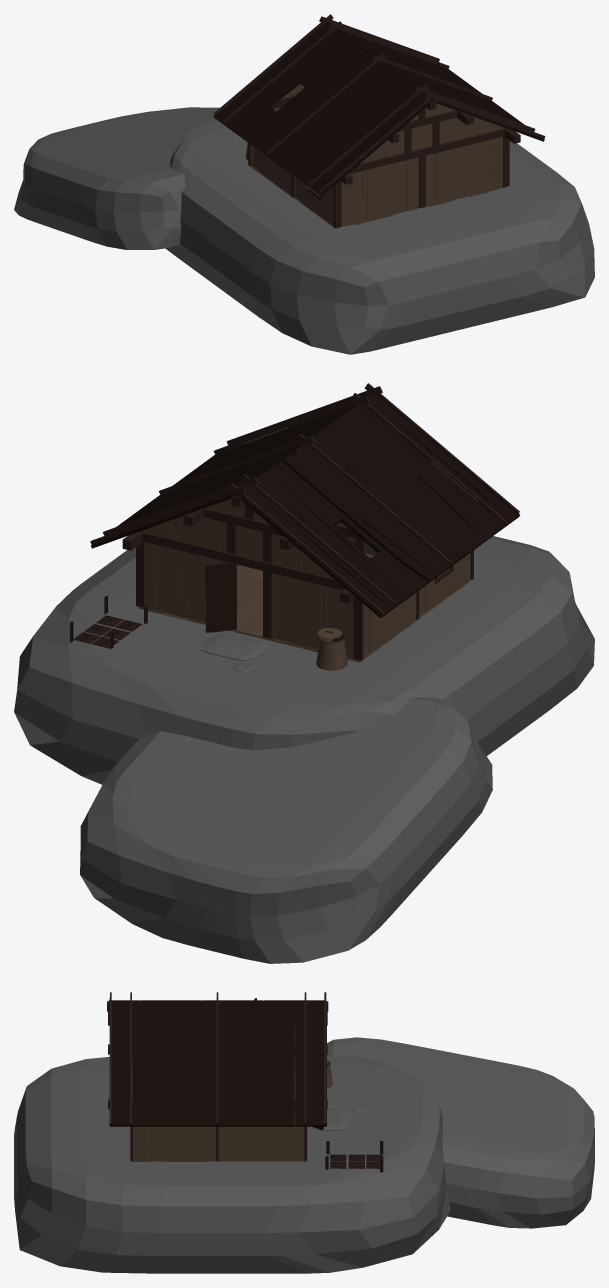
Rendered from house_base.fbx.
3 renders of one model, top to bottom at view 1: azimuth 30°, elevation 25°; view 2: azimuth 150°, elevation 25°; view 3: azimuth 270°, elevation 25°, orthographic. The views are drawn at different scales.
Parts seen in each view (by area): view 1: terrain, Roof001, Roof002, Structure, Walls002, Walls001; view 2: terrain, Roof001, Roof002, Structure, Walls002, Walls001, door, OutsideRock, Garden, Floor002, seedsContainer, Floor001; view 3: terrain, Roof002, Roof001, Walls002, Walls001, Structure, Garden, OutsideRock.
Part boxes in pixels (bbox=[...]): terrain: bbox=[14, 107, 594, 354]; Roof001: bbox=[213, 22, 524, 195]; Roof002: bbox=[229, 22, 544, 184]; Structure: bbox=[213, 14, 545, 228]; Walls002: bbox=[251, 83, 503, 223]; Walls001: bbox=[258, 86, 504, 226]; terrain: bbox=[14, 536, 594, 963]; Roof001: bbox=[116, 393, 519, 618]; Roof002: bbox=[91, 393, 500, 602]; Structure: bbox=[90, 383, 519, 660]; Walls002: bbox=[142, 429, 477, 658]; Walls001: bbox=[144, 427, 470, 652]; door: bbox=[205, 562, 236, 632]; OutsideRock: bbox=[198, 633, 269, 672]; Garden: bbox=[69, 596, 147, 649]; Floor002: bbox=[138, 555, 415, 662]; seedsContainer: bbox=[316, 628, 347, 670]; Floor001: bbox=[162, 553, 469, 652]; terrain: bbox=[14, 1037, 594, 1273]; Roof002: bbox=[109, 1000, 326, 1126]; Roof001: bbox=[108, 998, 324, 1126]; Walls002: bbox=[132, 1026, 304, 1160]; Walls001: bbox=[132, 1061, 289, 1160]; Structure: bbox=[107, 992, 328, 1161]; Garden: bbox=[325, 1141, 383, 1172]; OutsideRock: bbox=[312, 1105, 366, 1130].
Bounding box in the file's own units: 1641 × 1010 × 2209.
